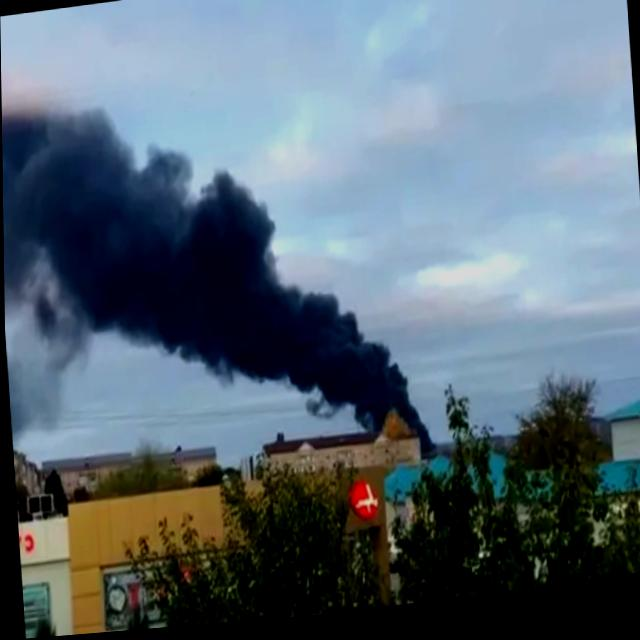no_helmet: (1, 69, 432, 491)
